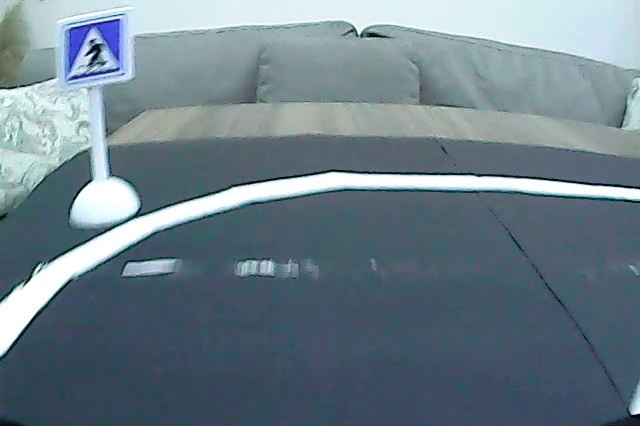pedestrian crossing: (62, 17, 127, 84)
